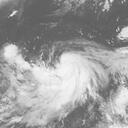cyclone: (36, 53, 97, 109)
